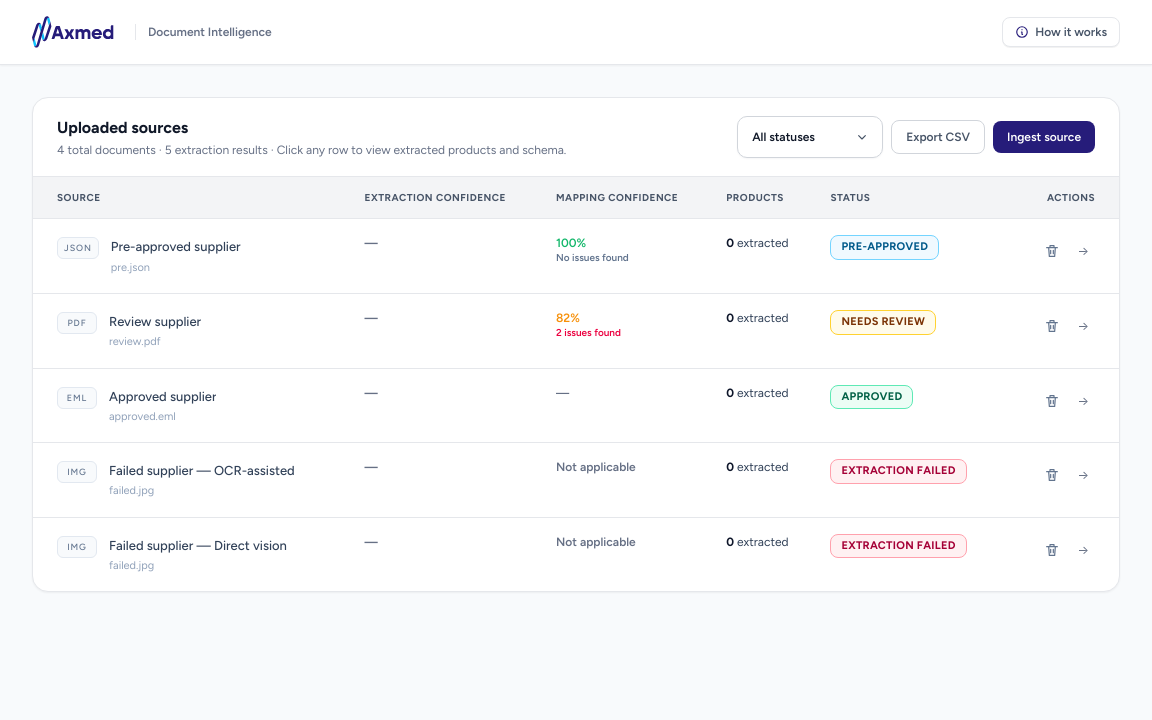
Test: App › filters source results by their displayed status
The width and height of the screenshot is (1152, 720).
Select "Approved" in the dropdown named "Filter by status" at x=810, y=137, box 737,116 -> 883,158
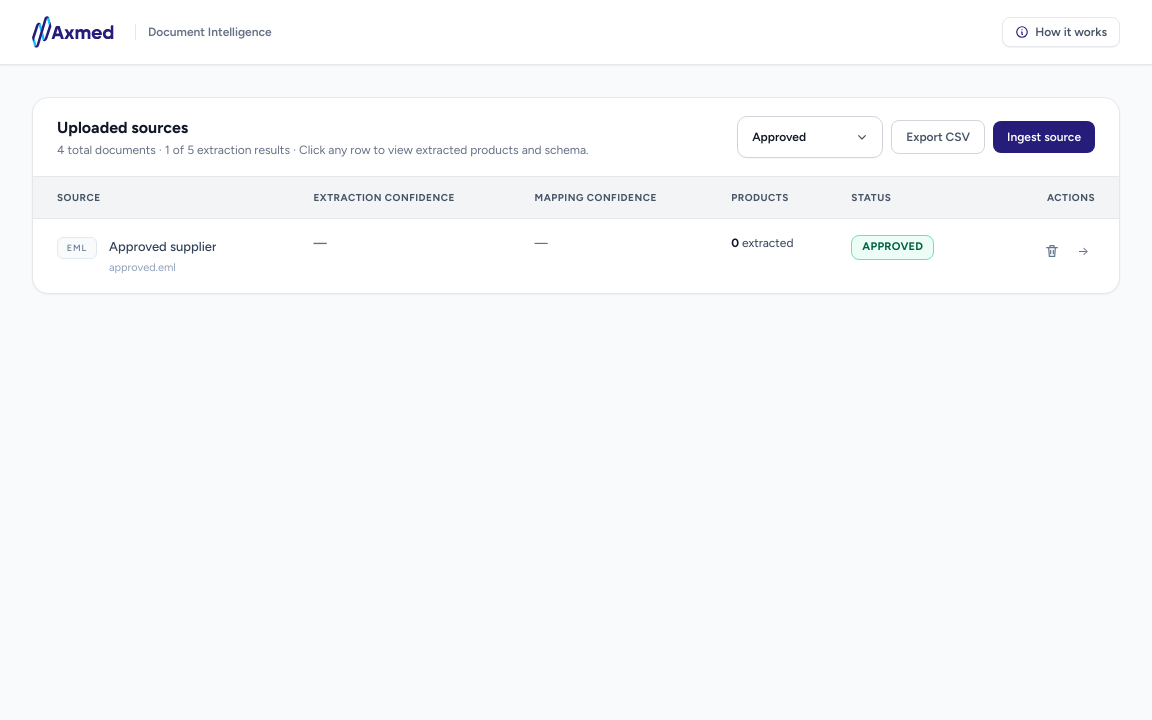
Expected: the text "Approved supplier" is shown, 109,235 -> 216,258
Result: the text "Review supplier" is gone
Result: the text "1 of 5 extraction results" is shown at 165,143 -> 290,157
